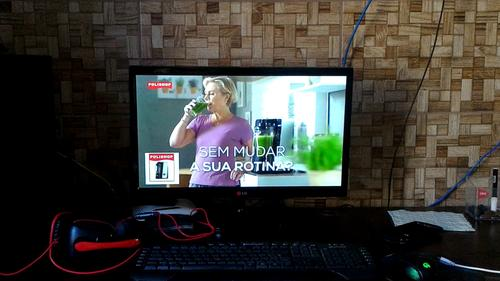Polishop #1: (144, 153, 179, 183)
